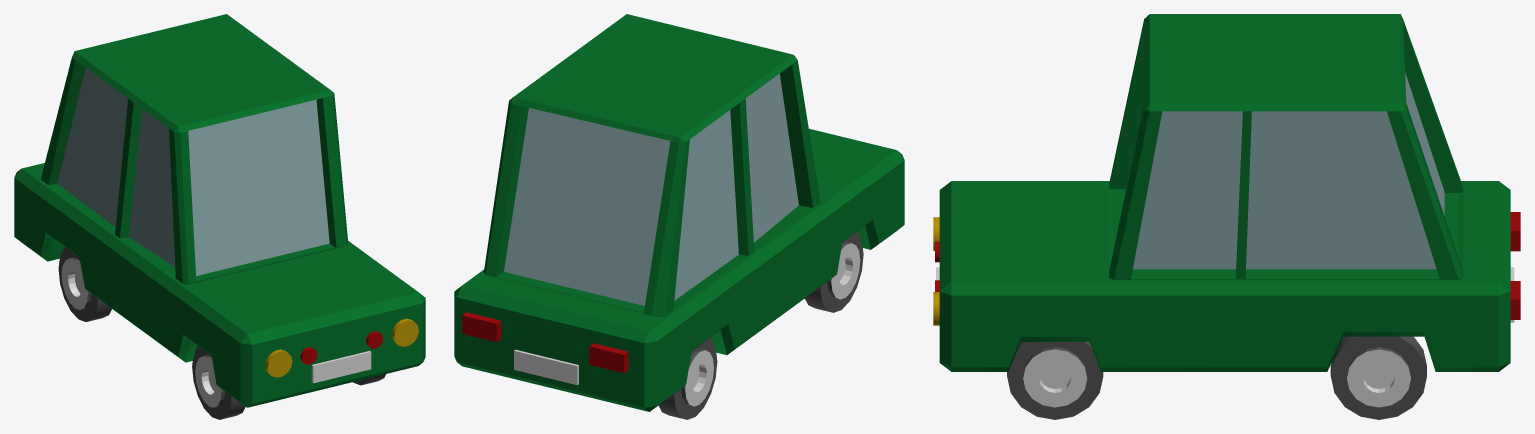
Rendered from Zcar5.fbx.
3 views of the same model, side by side, from view 1: azimuth 30°, elevation 25°; view 2: azimuth 150°, elevation 25°; view 3: azimuth 270°, elevation 25° (orthographic). The views are drawn at different scales.
Visible parts, largest first — view 1: car5; view 2: car5; view 3: car5.
Part boxes in pixels (left/top/right/bottom): car5: left=14, top=14, right=425, bottom=419; car5: left=454, top=14, right=904, bottom=419; car5: left=933, top=14, right=1520, bottom=419.
Bounding box in the file's own units: 2.33 × 3.13 × 5.28.
